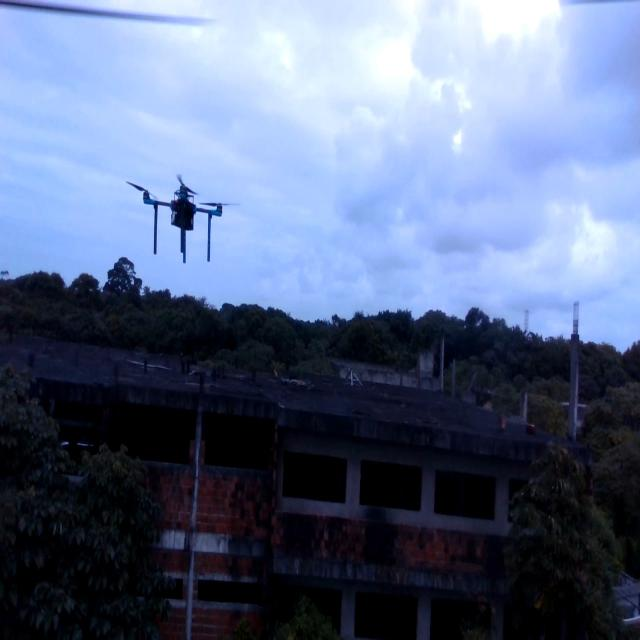-uav-: (119, 151, 249, 289)
